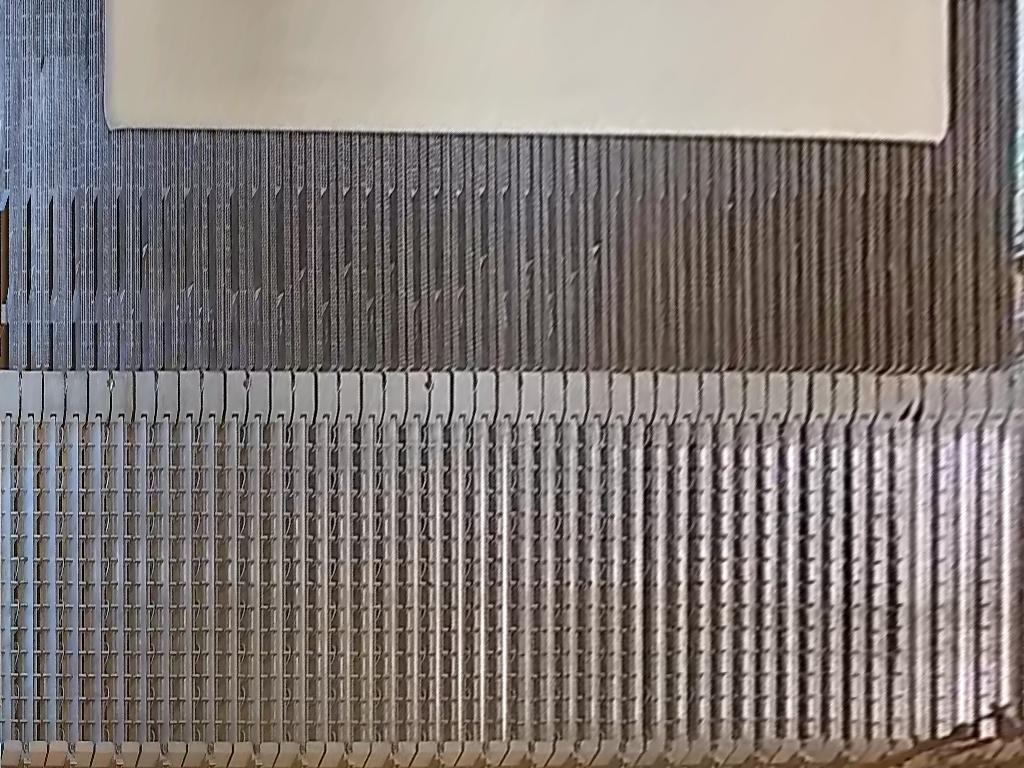steel: (101, 1, 948, 143)
